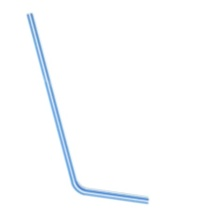drinking_straw: (20, 8, 153, 209)
